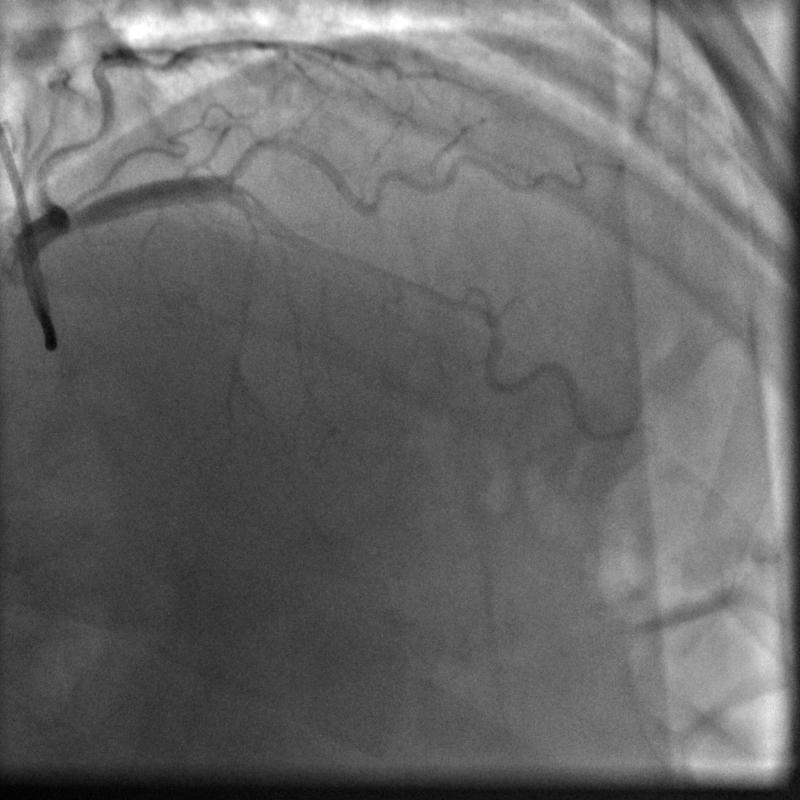Stenosis: (444, 286, 491, 328)
